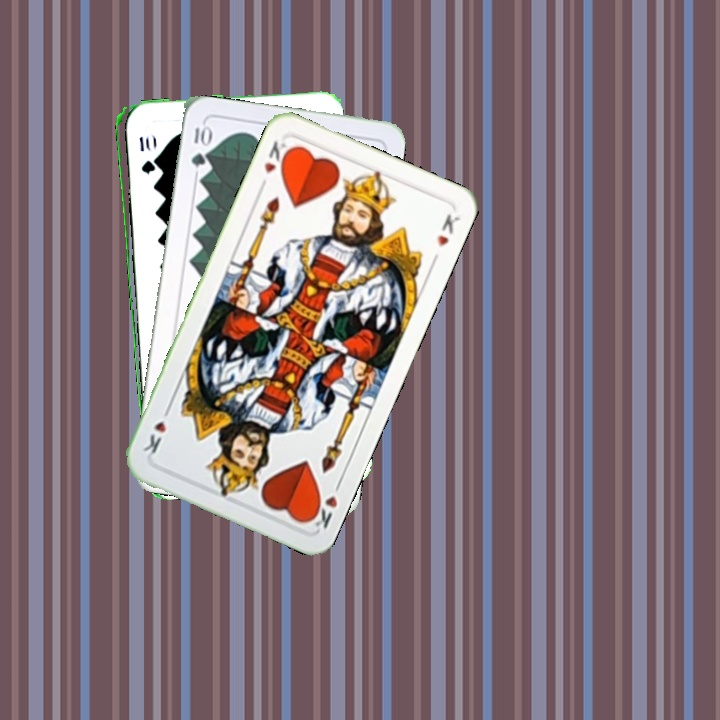G10: (187, 122, 212, 169), (135, 132, 153, 177)
HK: (305, 476, 345, 532), (256, 136, 294, 191)
